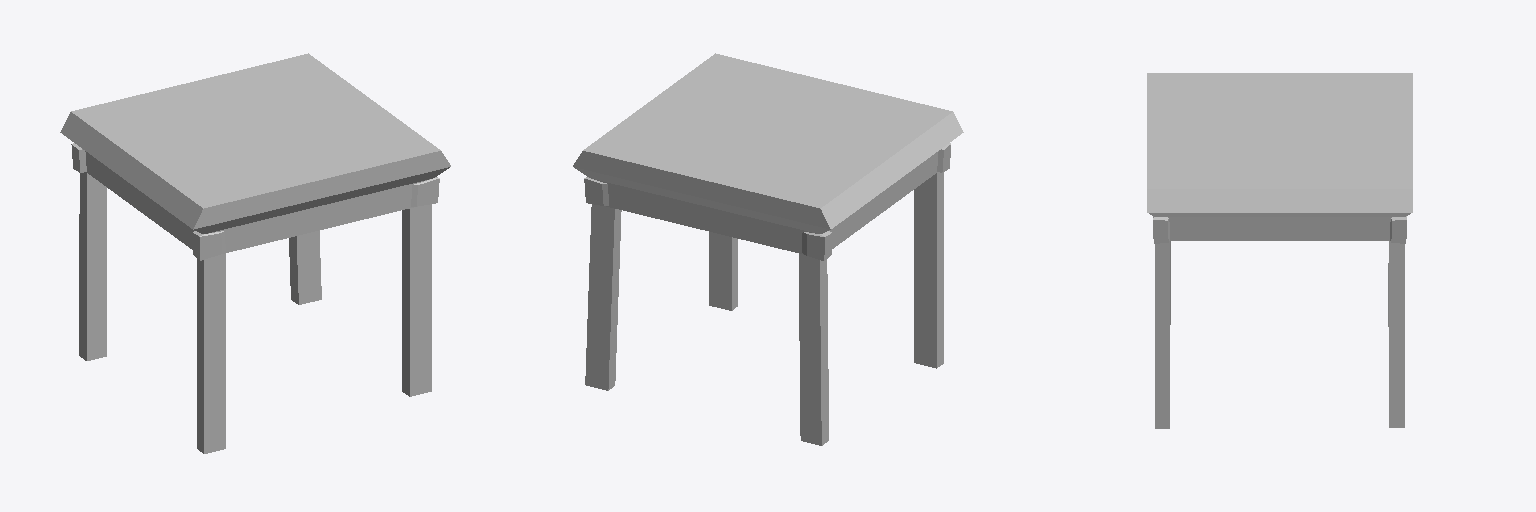
The model's file is End_Table.obj.
3 renders of one model, left to right at view 1: azimuth 30°, elevation 25°; view 2: azimuth 150°, elevation 25°; view 3: azimuth 270°, elevation 25°, orthographic.
Parts seen in each view (by area): view 1: Cube; view 2: Cube; view 3: Cube.
Part boxes in pixels (x1,y1,x2,y2): Cube: (60,53,450,453); Cube: (573,53,963,445); Cube: (1147,73,1412,428).
Bounding box in the file's own units: 5.49 × 5.07 × 4.88.